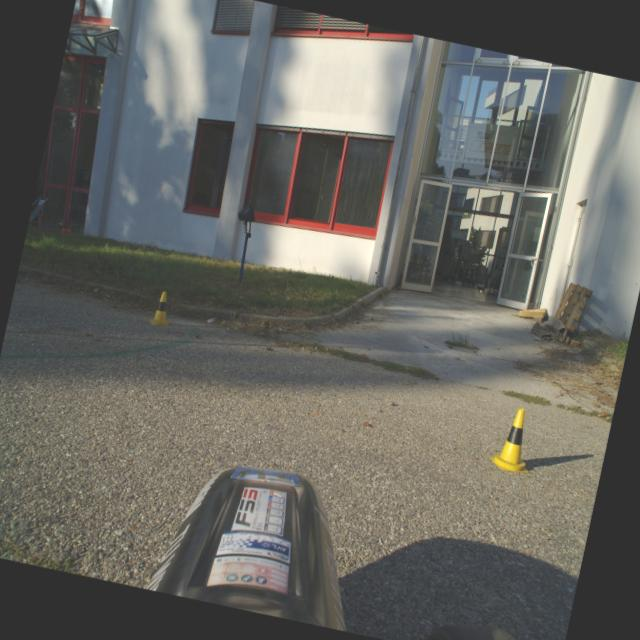yellow_cone: (488, 404, 540, 475), (149, 290, 175, 328)
